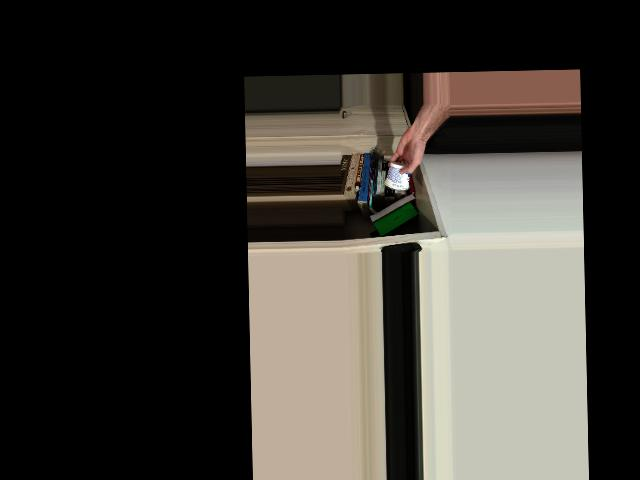cotage: (383, 154, 414, 192)
